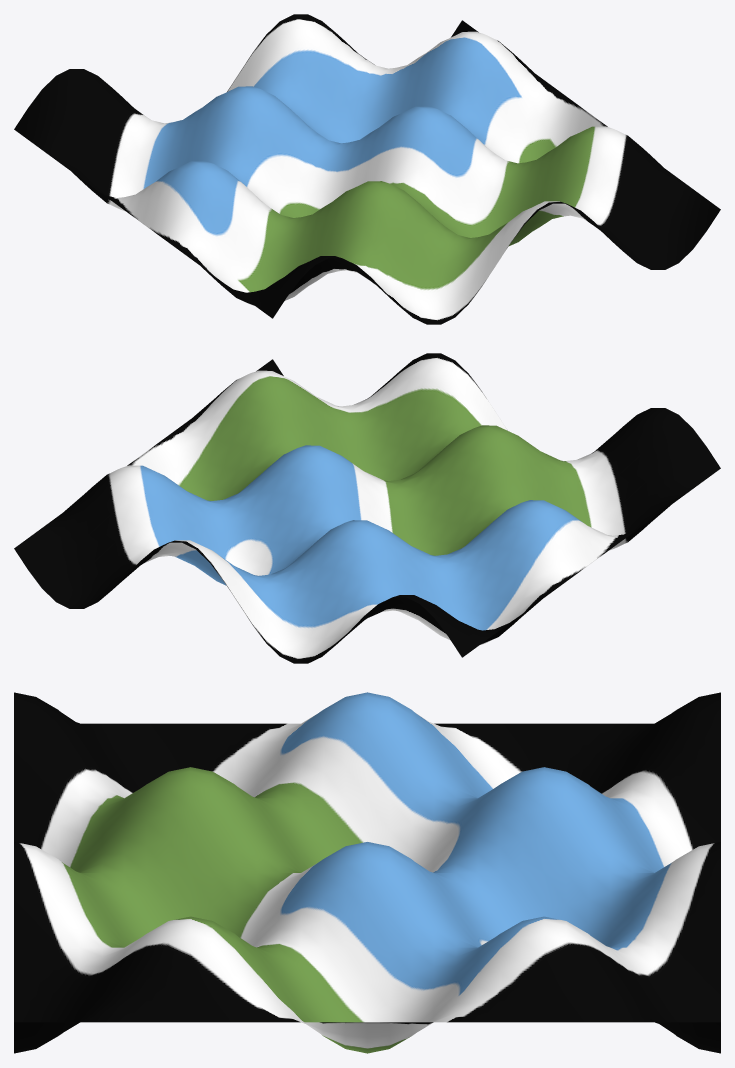
Rendered from planeTriangles.glb.
3 views of the same model, one above another, from view 1: azimuth 30°, elevation 25°; view 2: azimuth 150°, elevation 25°; view 3: azimuth 270°, elevation 25° (orthographic). The views are drawn at different scales.
Size of the model in its own units: 1 by 0.2 by 1.
1 material, 1 textured.
